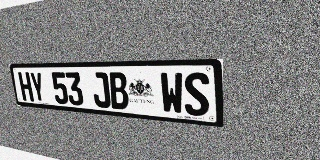3: (65, 72, 84, 106)
5: (51, 72, 69, 105)
B: (108, 72, 129, 110)
H: (18, 72, 34, 102)
J: (91, 72, 111, 108)
S: (183, 72, 210, 117)
W: (159, 72, 184, 115)
Y: (29, 72, 46, 103)
